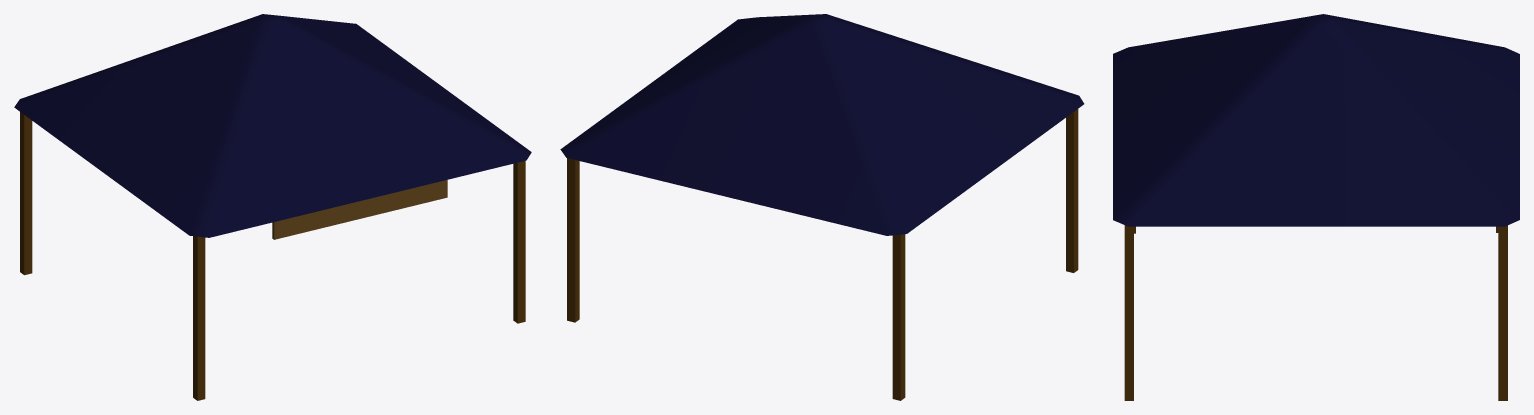
The model's file is Stall Shelter.fbx.
3 views of the same model, side by side, from view 1: azimuth 30°, elevation 25°; view 2: azimuth 150°, elevation 25°; view 3: azimuth 270°, elevation 25° (orthographic). The views are drawn at different scales.
Visible parts, largest first — view 1: pasted__pCube24; view 2: pasted__pCube24; view 3: pasted__pCube24.
Part boxes in pixels (left/top/right/bottom): pasted__pCube24: left=14, top=14, right=531, bottom=400; pasted__pCube24: left=560, top=14, right=1084, bottom=400; pasted__pCube24: left=1113, top=14, right=1519, bottom=400.
Size of the model in its own units: 10.66 by 8.18 by 10.22.
